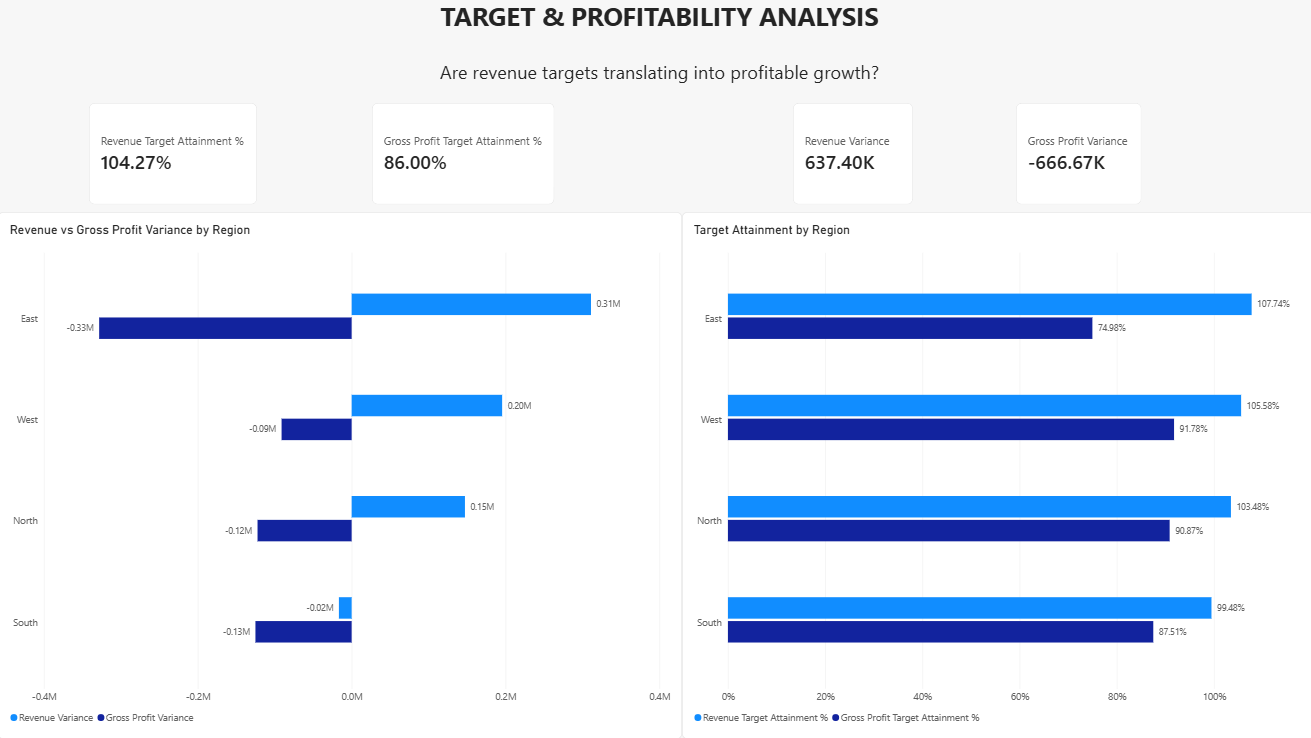

The page's visual inventory and layout, read from the dashboard file:
{"tool":"powerbi","page":{"name":"Target & Profitability","canvas":[1920,1080],"ordinal":2},"visuals":[{"type":"textbox","box":[10.2,0,1909.8,129.8],"z":0},{"type":"cardVisual","fields":{"Data":["Calendar.Revenue Target Attainment %"]},"box":[132.8,151.7,245.1,148.8],"z":1},{"type":"cardVisual","fields":{"Data":["Calendar.Gross Profit Variance"]},"box":[1485.2,151.7,183.8,148.8],"z":2},{"type":"cardVisual","fields":{"Data":["Calendar.Revenue Variance"]},"box":[1159.9,151.7,175.1,148.8],"z":3},{"type":"cardVisual","fields":{"Data":["Calendar.Gross Profit Target Attainment %"]},"box":[545.7,151.7,267,148.8],"z":4},{"type":"clusteredBarChart","title":"Revenue vs Gross Profit Variance by Region","fields":{"Category":["Regions.Region"],"Y":["Calendar.Revenue Variance","Calendar.Gross Profit Variance"]},"box":[0,310.8,997.9,768.9],"z":5},{"type":"clusteredBarChart","title":"Target Attainment by Region","fields":{"Category":["Regions.Region"],"Y":["Calendar.Revenue Target Attainment %","Calendar.Gross Profit Target Attainment %"]},"box":[997.9,310.8,922.1,768.9],"z":6}]}

Visuals, with their boxes in screenshot pixels (x1, y1, x2, y2), scaled from the page's 1920x1080 canvas onto the 1311x738 screenshot:
textbox: select_region(7, 0, 1310, 89)
cardVisual - Calendar.Revenue Target Attainment %: select_region(91, 104, 258, 205)
cardVisual - Calendar.Gross Profit Variance: select_region(1014, 104, 1140, 205)
cardVisual - Calendar.Revenue Variance: select_region(792, 104, 912, 205)
cardVisual - Calendar.Gross Profit Target Attainment %: select_region(373, 104, 555, 205)
"Revenue vs Gross Profit Variance by Region" clusteredBarChart: select_region(0, 212, 681, 737)
"Target Attainment by Region" clusteredBarChart: select_region(681, 212, 1310, 737)
